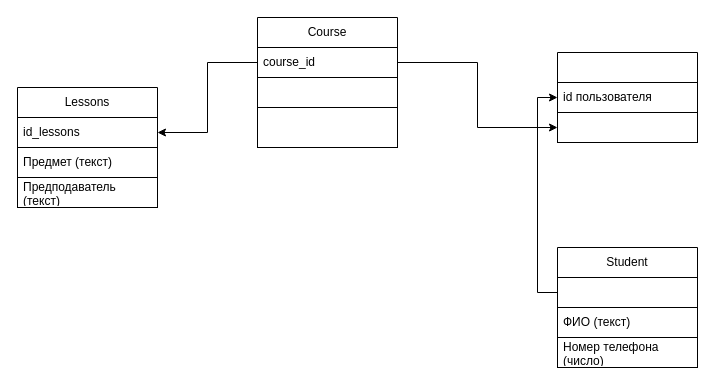
Some shapes in this 715 by 385 pixel diagram are drawn without their labels. The box of each missing label's shape, as (x1, y1, x2, y2) in pixels:
CourseIdStudentId: (556, 52, 698, 142)
id курса: (556, 112, 698, 142)
id_student: (556, 276, 698, 308)
Кол-во уроков (число): (256, 76, 398, 108)
Продолжительность (Дата/время): (256, 106, 398, 148)
